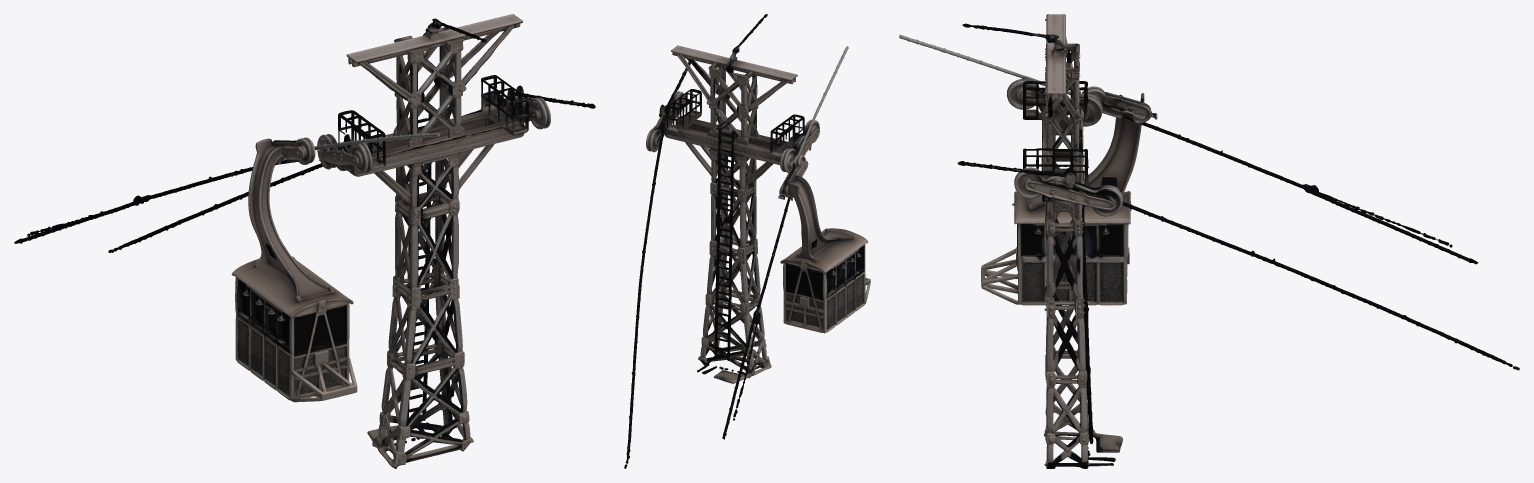
Rendered from teleferico.glb.
The picture shows the model from 3 angles, left to right: view 1: azimuth 30°, elevation 25°; view 2: azimuth 150°, elevation 25°; view 3: azimuth 270°, elevation 25°; orthographic projection. The views are drawn at different scales.
Visible parts, largest first — view 1: world; view 2: world; view 3: world.
Boxes of the visible parts, x1,y1,x2,y2 form: world: [14, 14, 595, 468]; world: [624, 14, 870, 468]; world: [899, 14, 1519, 468].
Bounding box in the file's own units: 0.5699 × 0.7744 × 1.
Materials: 1 (1 with a texture image).
